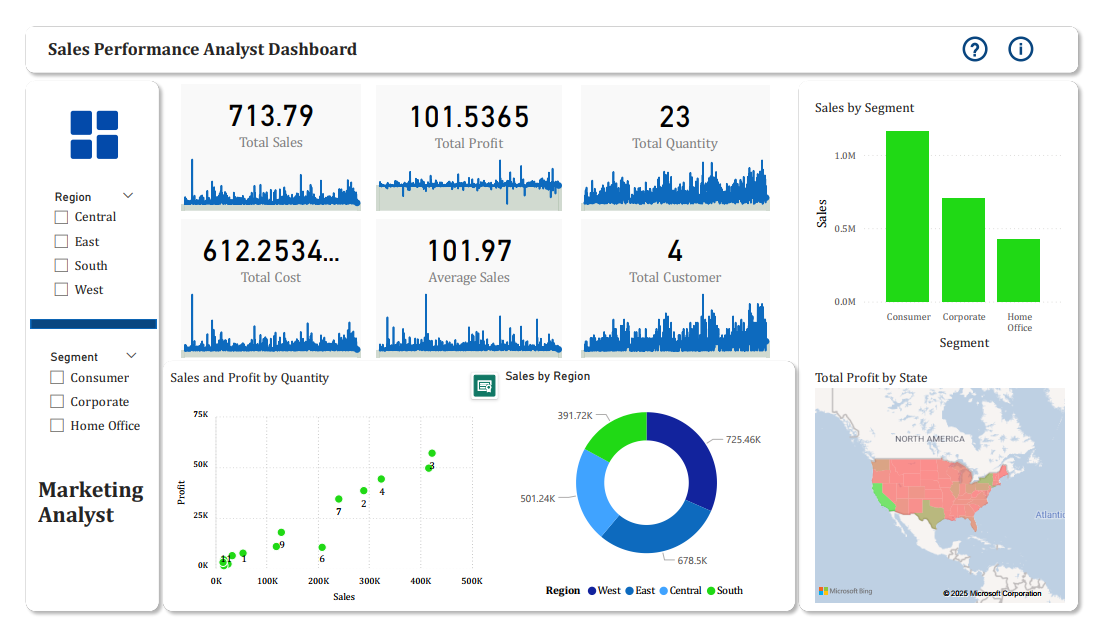

Layout of this report page (visuals, bound fields, positions):
{"tool":"powerbi","page":{"name":"หน้า 1","canvas":[1280,720],"ordinal":0},"visuals":[{"type":"shape","box":[0,65.9,177,653.2],"z":0},{"type":"image","box":[48,89.2,85.1,100.2],"z":1000},{"type":"slicer","fields":{"Values":["Sample - Superstore.Region"]},"box":[30.2,200.3,119.4,153.7],"z":2000},{"type":"shape","box":[13.7,359.5,150.9,12.3],"z":3000},{"type":"slicer","fields":{"Values":["Sample - Superstore.Segment"]},"box":[24.7,392.5,129,122.1],"z":4000},{"type":"textbox","box":[17.8,543.4,142.7,85.1],"z":5000},{"type":"shape","box":[0,0,1280.3,72.7],"z":6000},{"type":"textbox","box":[30.2,17.8,435,38.4],"z":7000},{"type":"actionButton","box":[1127.6,16.5,54.9,39.8],"z":8000},{"type":"actionButton","box":[1182.9,16.5,45.3,39.8],"z":9000},{"type":"shape","box":[927.6,65.9,352.7,653.2],"z":10000},{"type":"shape","box":[164.7,402.1,775.3,317],"z":11000},{"type":"performanceBubbleChartFBAAA829CB604E5CAB4F21729F233294","title":"Sales and Profit by Quantity","fields":{"category":["Sample - Superstore.Quantity"],"xmeasure":["Sum(Sample - Superstore.Sales)"],"ymeasure":["Sum(Sample - Superstore.Profit)"]},"box":[177,419.9,402.1,285.4],"z":12000},{"type":"donutChart","title":"Sales by Region","fields":{"Y":["Sum(Sample - Superstore.Sales)"],"Category":["Sample - Superstore.Region"]},"box":[579.1,419.9,348.5,285.4],"z":13000},{"type":"clusteredColumnChart","title":"Sales by Segment","fields":{"Category":["Sample - Superstore.Segment"],"Y":["Sum(Sample - Superstore.Sales)"]},"box":[950.9,96.1,308.7,306],"z":14000},{"type":"filledMap","title":"Total Profit by State","fields":{"Y":["KPIs Table.Total Profit"],"Category":["Sample - Superstore.State"]},"box":[951.4,420,308.6,285.7],"z":15000},{"type":"PBI_CV_7B952816_A48F_49B4_9E13_15E3BB2C0337","fields":{"Values":["KPIs Table.Total Sales"],"axis":["Sample - Superstore.Order Date"]},"box":[190,72.5,225,162.5],"z":16000},{"type":"PBI_CV_7B952816_A48F_49B4_9E13_15E3BB2C0337","fields":{"Values":["KPIs Table.Total Quantity"],"axis":["Sample - Superstore.Order Date"]},"box":[670,73.8,236.2,161.2],"z":17000},{"type":"PBI_CV_7B952816_A48F_49B4_9E13_15E3BB2C0337","fields":{"Values":["KPIs Table.Total Profit"],"axis":["Sample - Superstore.Order Date"]},"box":[423.8,73.8,233.8,161.2],"z":18000},{"type":"PBI_CV_7B952816_A48F_49B4_9E13_15E3BB2C0337","fields":{"Values":["KPIs Table.Average Sales"],"axis":["Sample - Superstore.Order Date"]},"box":[423.8,235,233.8,176.2],"z":19000},{"type":"PBI_CV_7B952816_A48F_49B4_9E13_15E3BB2C0337","fields":{"Values":["KPIs Table.Total Customer"],"axis":["Sample - Superstore.Order Date"]},"box":[670,235,236.2,176.2],"z":20000},{"type":"PBI_CV_7B952816_A48F_49B4_9E13_15E3BB2C0337","fields":{"axis":["Sample - Superstore.Order Date"],"Values":["KPIs Table.Total Cost"]},"box":[190,235,225,176.2],"z":21000}]}

Visuals, with their boxes in screenshot pixels (x1, y1, x2, y2), scaled from the page's 1280x720 canvas onto the 1105x635 screenshot:
shape: [0, 58, 153, 634]
image: [41, 79, 115, 167]
slicer - Sample - Superstore.Region: [26, 177, 129, 312]
shape: [12, 317, 142, 328]
slicer - Sample - Superstore.Segment: [21, 346, 133, 454]
textbox: [15, 479, 139, 554]
shape: [0, 0, 1104, 64]
textbox: [26, 16, 402, 50]
actionButton: [973, 15, 1021, 50]
actionButton: [1021, 15, 1060, 50]
shape: [801, 58, 1104, 634]
shape: [142, 355, 811, 634]
"Sales and Profit by Quantity" performanceBubbleChartFBAAA829CB604E5CAB4F21729F233294: [153, 370, 500, 622]
"Sales by Region" donutChart: [500, 370, 801, 622]
"Sales by Segment" clusteredColumnChart: [821, 85, 1087, 355]
"Total Profit by State" filledMap: [821, 370, 1088, 622]
PBI_CV_7B952816_A48F_49B4_9E13_15E3BB2C0337 - KPIs Table.Total Sales x Sample - Superstore.Order Date: [164, 64, 358, 207]
PBI_CV_7B952816_A48F_49B4_9E13_15E3BB2C0337 - KPIs Table.Total Quantity x Sample - Superstore.Order Date: [578, 65, 782, 207]
PBI_CV_7B952816_A48F_49B4_9E13_15E3BB2C0337 - KPIs Table.Total Profit x Sample - Superstore.Order Date: [366, 65, 568, 207]
PBI_CV_7B952816_A48F_49B4_9E13_15E3BB2C0337 - KPIs Table.Average Sales x Sample - Superstore.Order Date: [366, 207, 568, 363]
PBI_CV_7B952816_A48F_49B4_9E13_15E3BB2C0337 - KPIs Table.Total Customer x Sample - Superstore.Order Date: [578, 207, 782, 363]
PBI_CV_7B952816_A48F_49B4_9E13_15E3BB2C0337 - Sample - Superstore.Order Date x KPIs Table.Total Cost: [164, 207, 358, 363]
